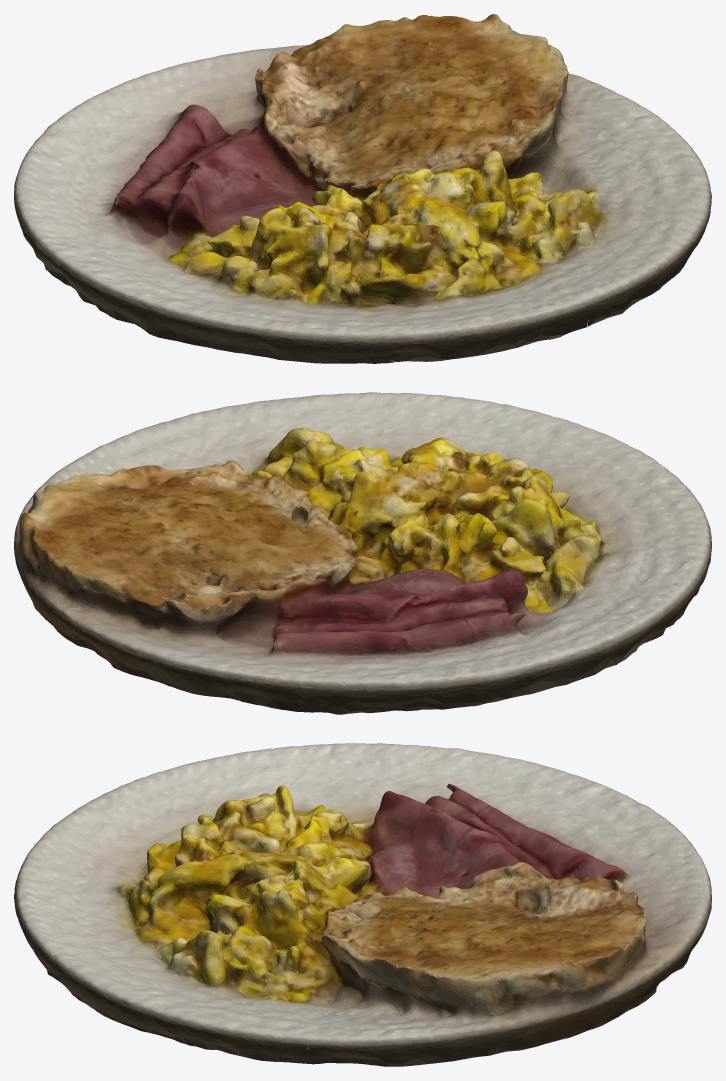
Rendered from breakfast.glb.
3 renders of one model, top to bottom at view 1: azimuth 30°, elevation 25°; view 2: azimuth 150°, elevation 25°; view 3: azimuth 270°, elevation 25°, orthographic.
Parts seen in each view (by area): view 1: Mesh_0; view 2: Mesh_0; view 3: Mesh_0.
Part boxes in pixels (<box>): Mesh_0: <box>14,14,711,363</box>; Mesh_0: <box>14,392,711,714</box>; Mesh_0: <box>14,743,711,1066</box>.
Bounding box in the file's own units: 0.2669 × 0.0336 × 0.2667.
Materials: 1 (1 with a texture image).
